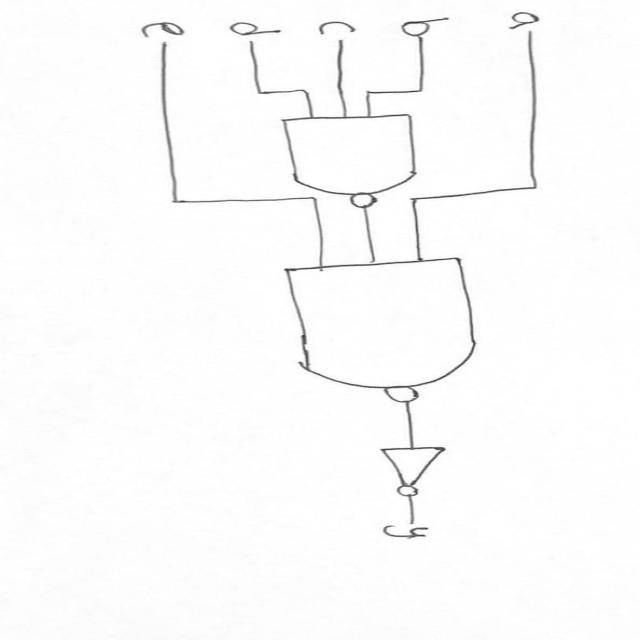NAND: (250, 256, 530, 414), (261, 114, 444, 210)
NOT: (353, 442, 474, 501)
